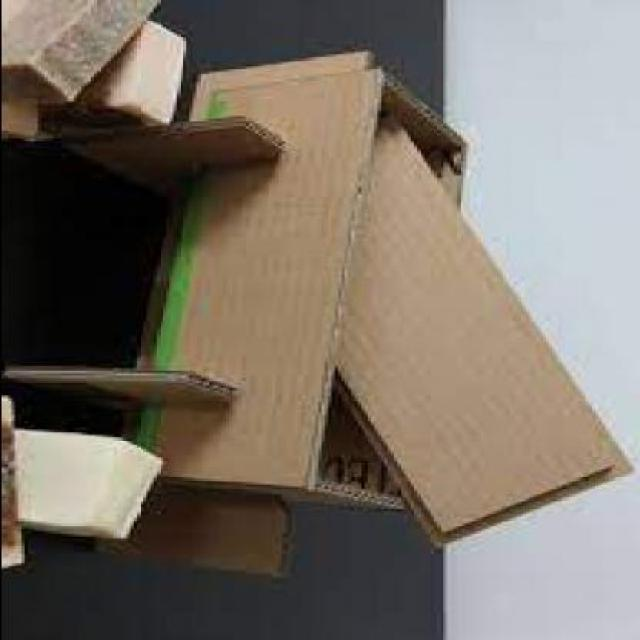CARDBOARD: (126, 48, 472, 506), (337, 113, 637, 544), (96, 489, 293, 574), (72, 114, 288, 172), (7, 363, 241, 408)
